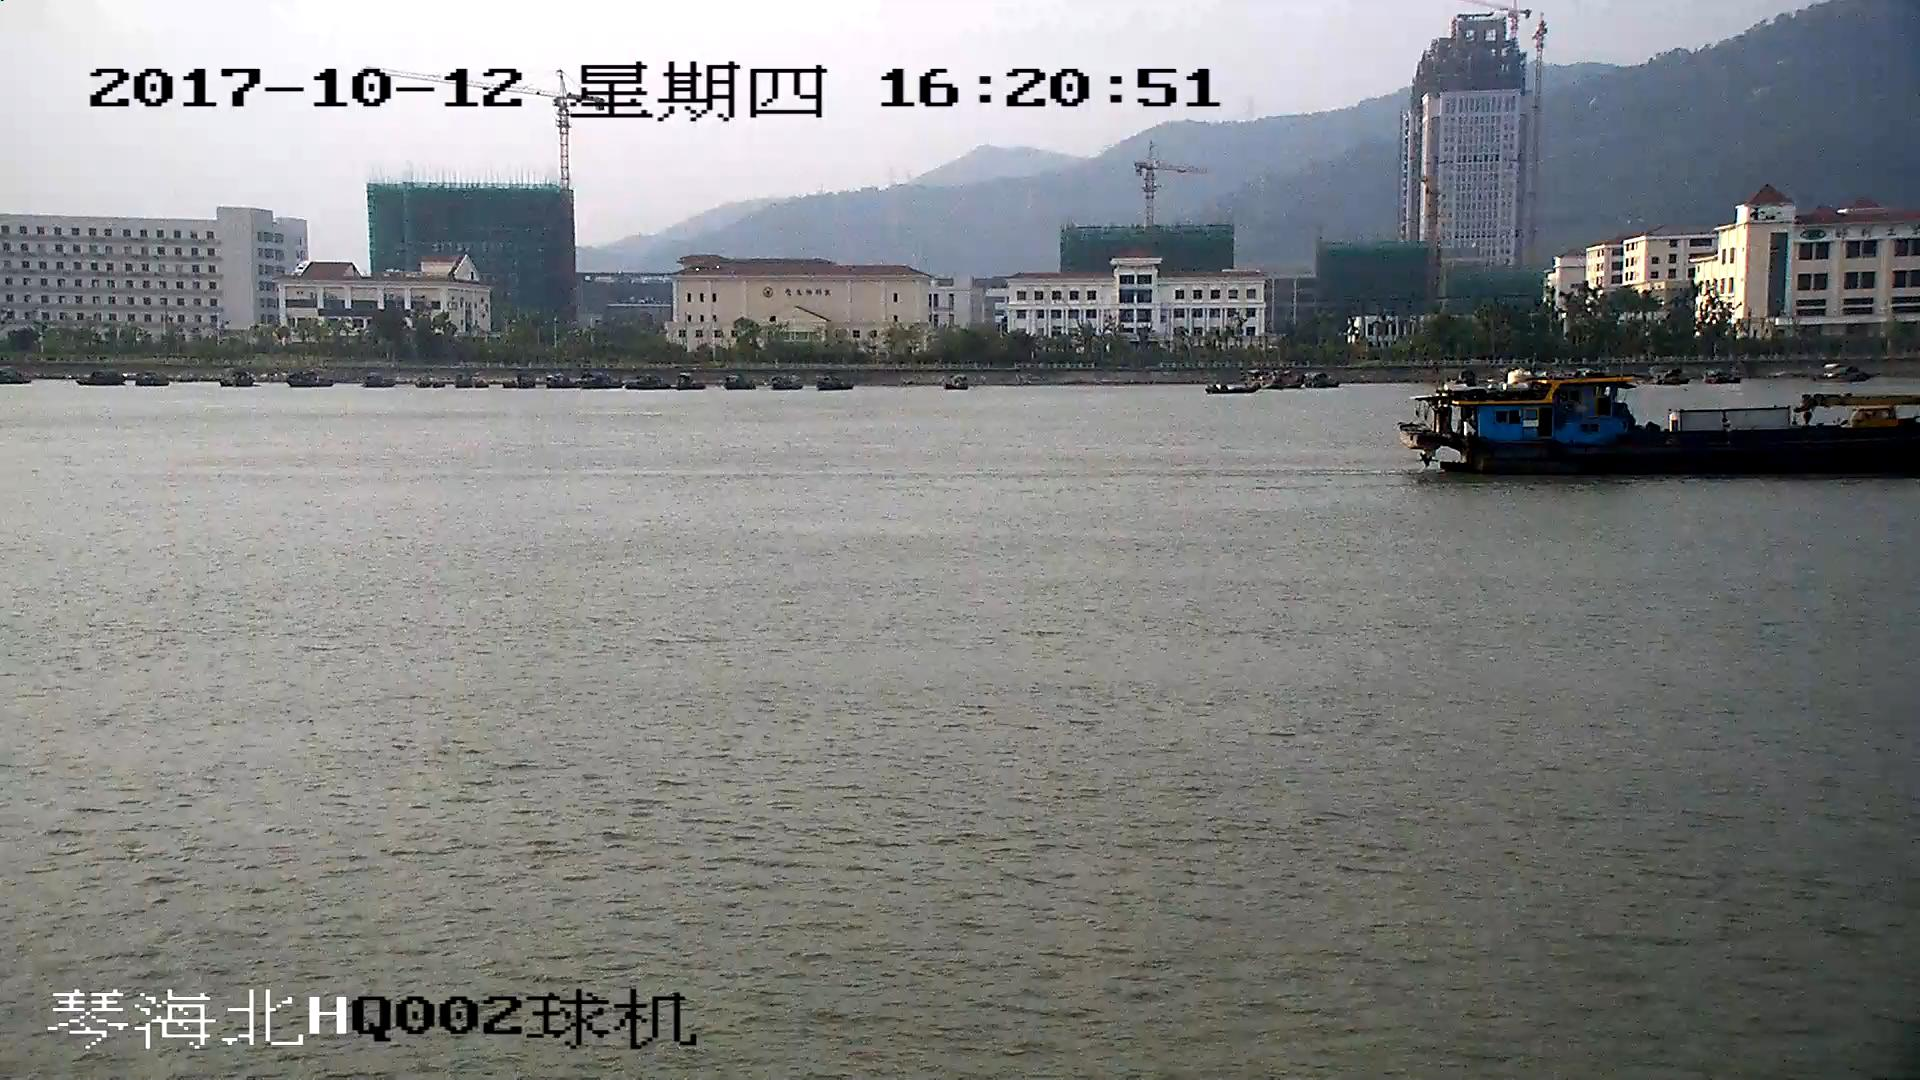fishing boat: (1404, 366, 1920, 479)
